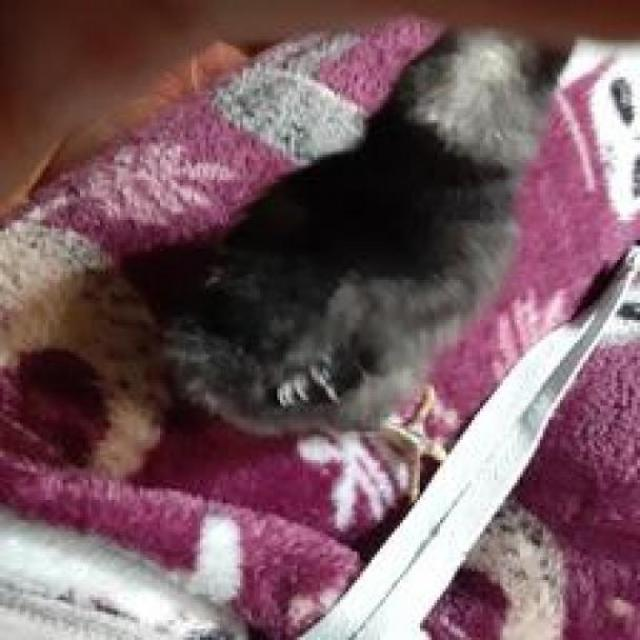Chicken: (128, 12, 552, 505)
